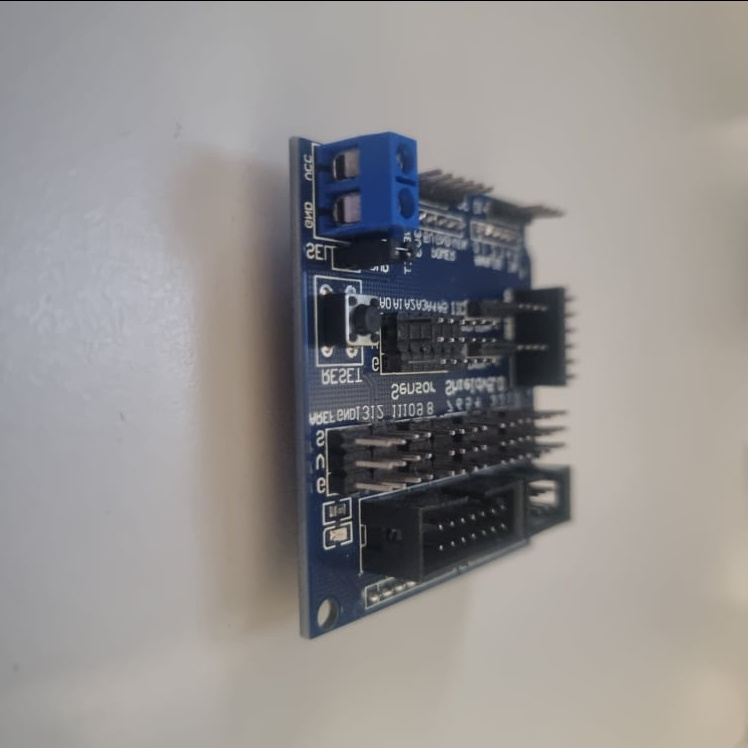5V EXPANSION: (291, 125, 592, 640)
